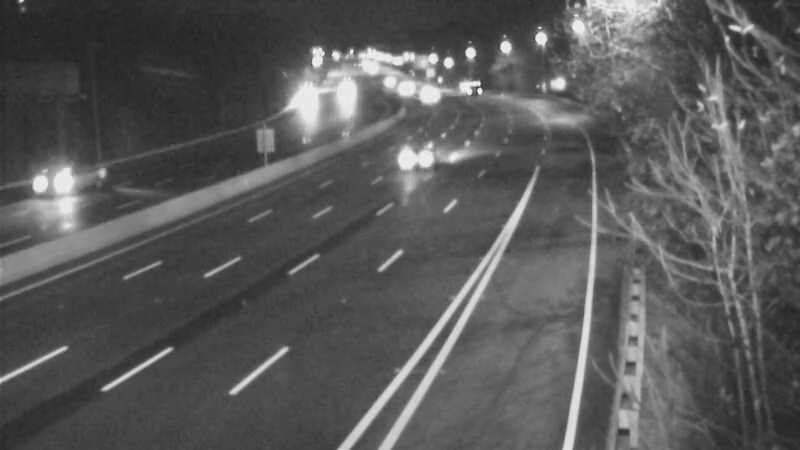vehicle: (377, 118, 457, 198), (10, 143, 90, 223), (442, 64, 492, 114), (379, 64, 429, 114), (403, 68, 453, 118)
